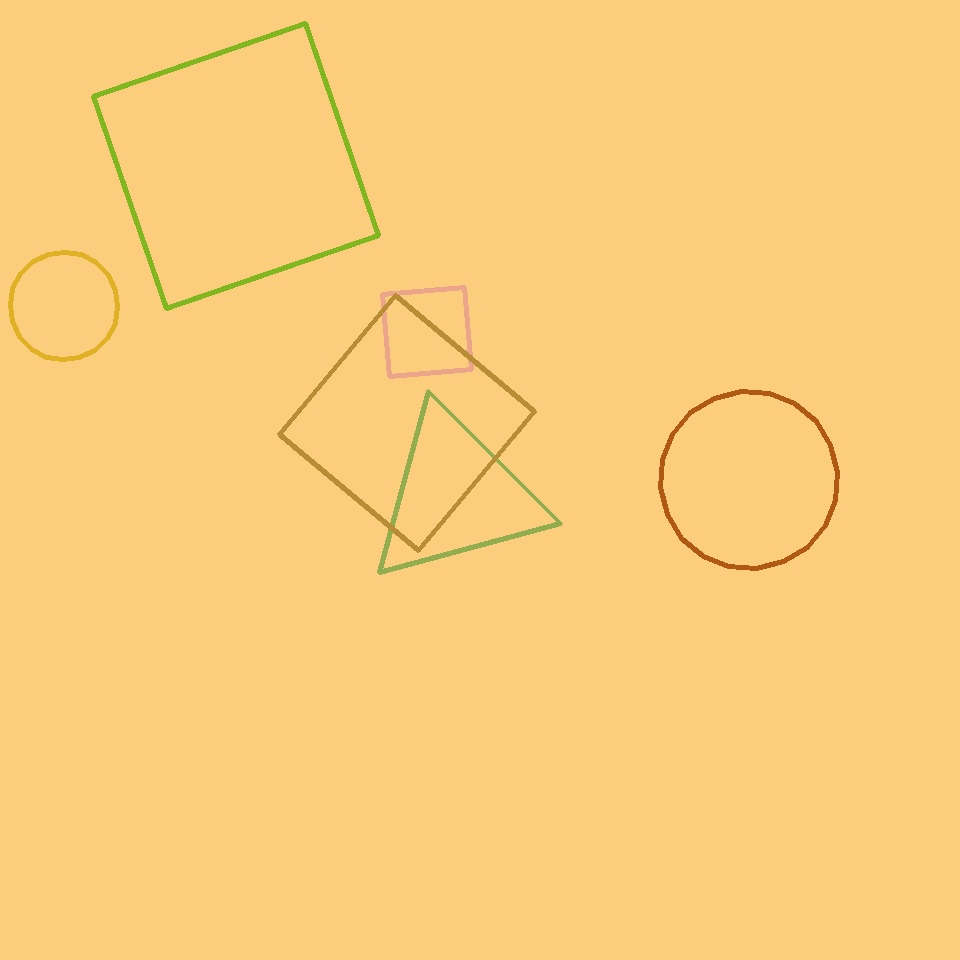circle: (366, 406, 546, 586)
square: (93, 23, 378, 308), (280, 296, 534, 550), (382, 287, 471, 376)
triangle: (660, 392, 837, 568), (10, 252, 118, 360)
